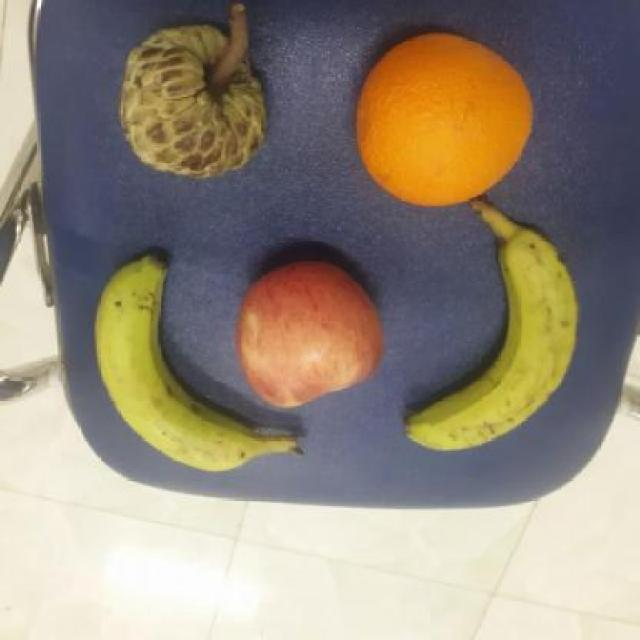apple: (238, 258, 385, 409)
banana: (93, 253, 309, 472), (402, 227, 581, 451)
oren: (355, 32, 533, 210)
sugar apple: (120, 26, 268, 180)
